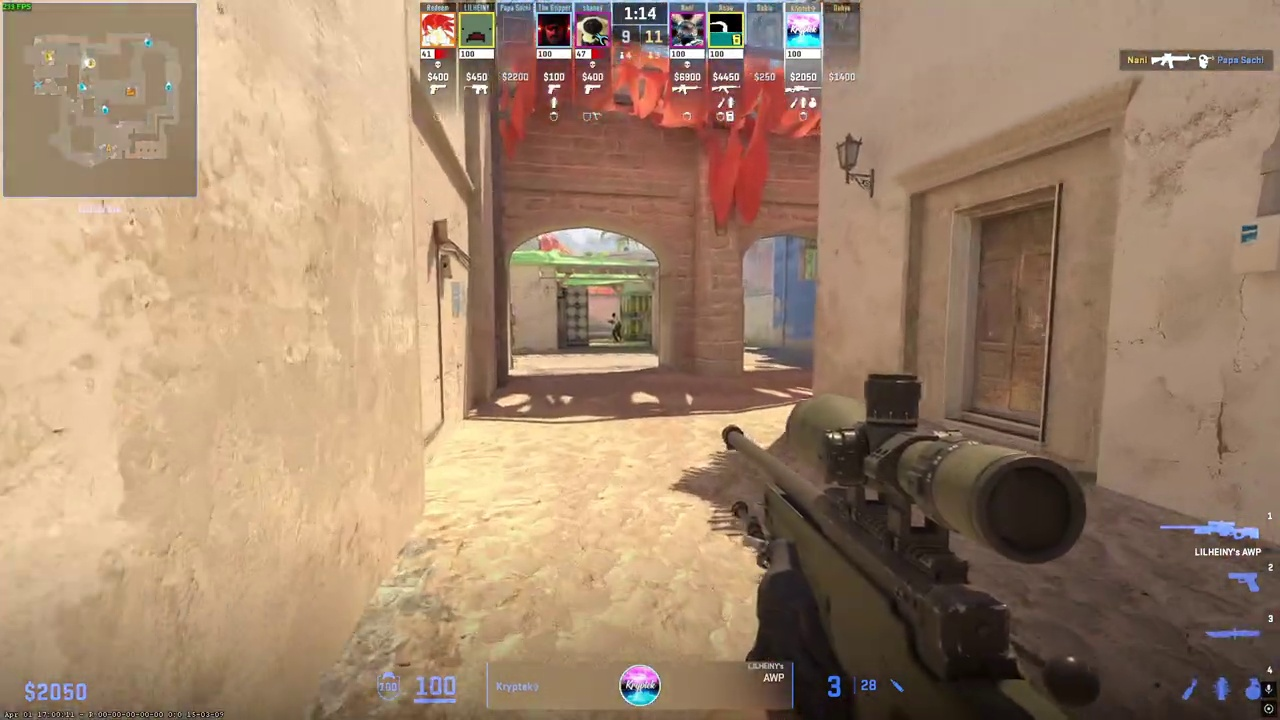Terrorist: (609, 313, 622, 342)
